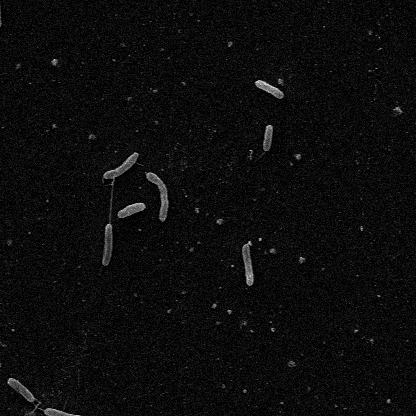cell: (110, 175, 115, 225), (31, 400, 45, 412)
nanowire: (103, 151, 139, 179), (147, 172, 167, 222), (7, 378, 37, 403), (240, 244, 255, 287), (253, 80, 284, 100), (101, 223, 112, 267), (118, 203, 146, 219), (42, 407, 90, 416), (263, 124, 273, 153), (254, 149, 267, 163)
